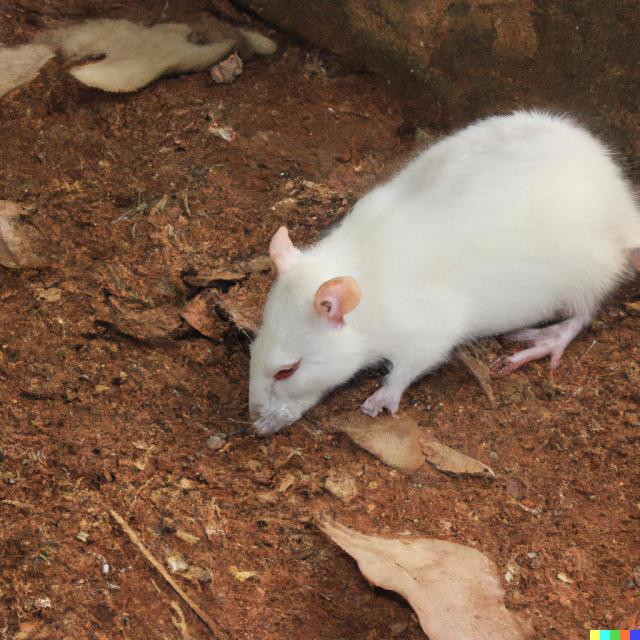rodents: (222, 84, 640, 462)
